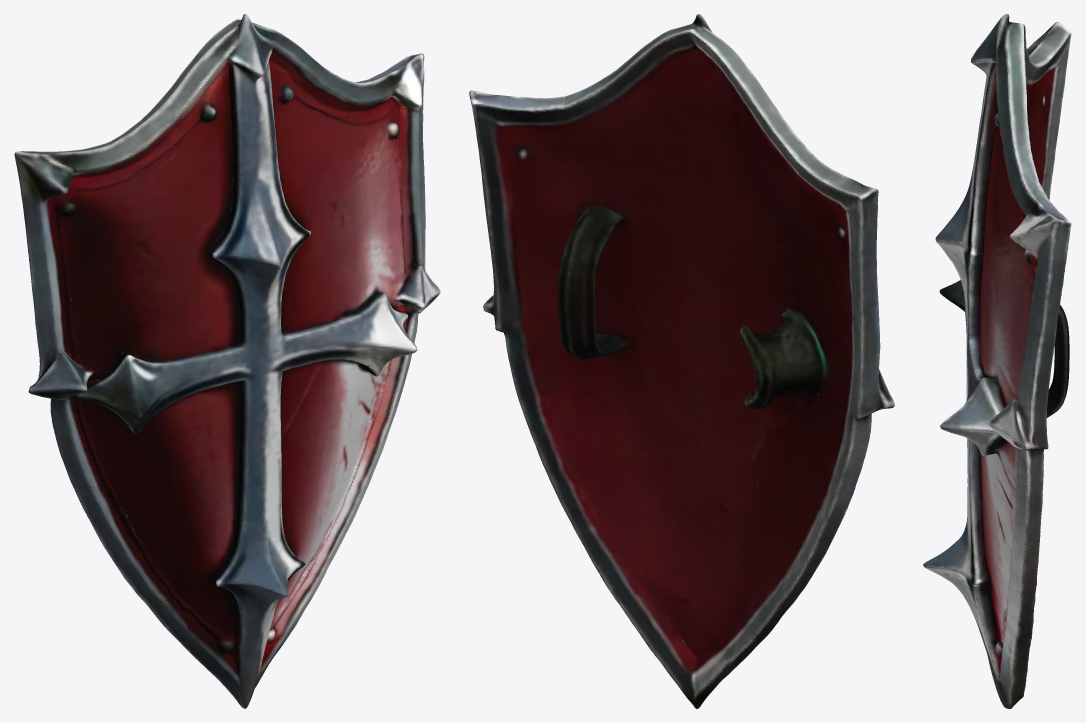
The model's file is combat_abandoned_shield_01.glb.
3 renders of one model, left to right at view 1: azimuth 30°, elevation 25°; view 2: azimuth 150°, elevation 25°; view 3: azimuth 270°, elevation 25°, orthographic.
Parts seen in each view (by area): view 1: geometry_0; view 2: geometry_0; view 3: geometry_0.
Boxes of the visible parts, left/top/right/bottom form: geometry_0: left=14, top=14, right=440, bottom=708; geometry_0: left=469, top=14, right=894, bottom=708; geometry_0: left=923, top=14, right=1071, bottom=708.
Size of the model in its own units: 0.6198 by 1 by 0.1931.
Materials: 1 (1 with a texture image).
